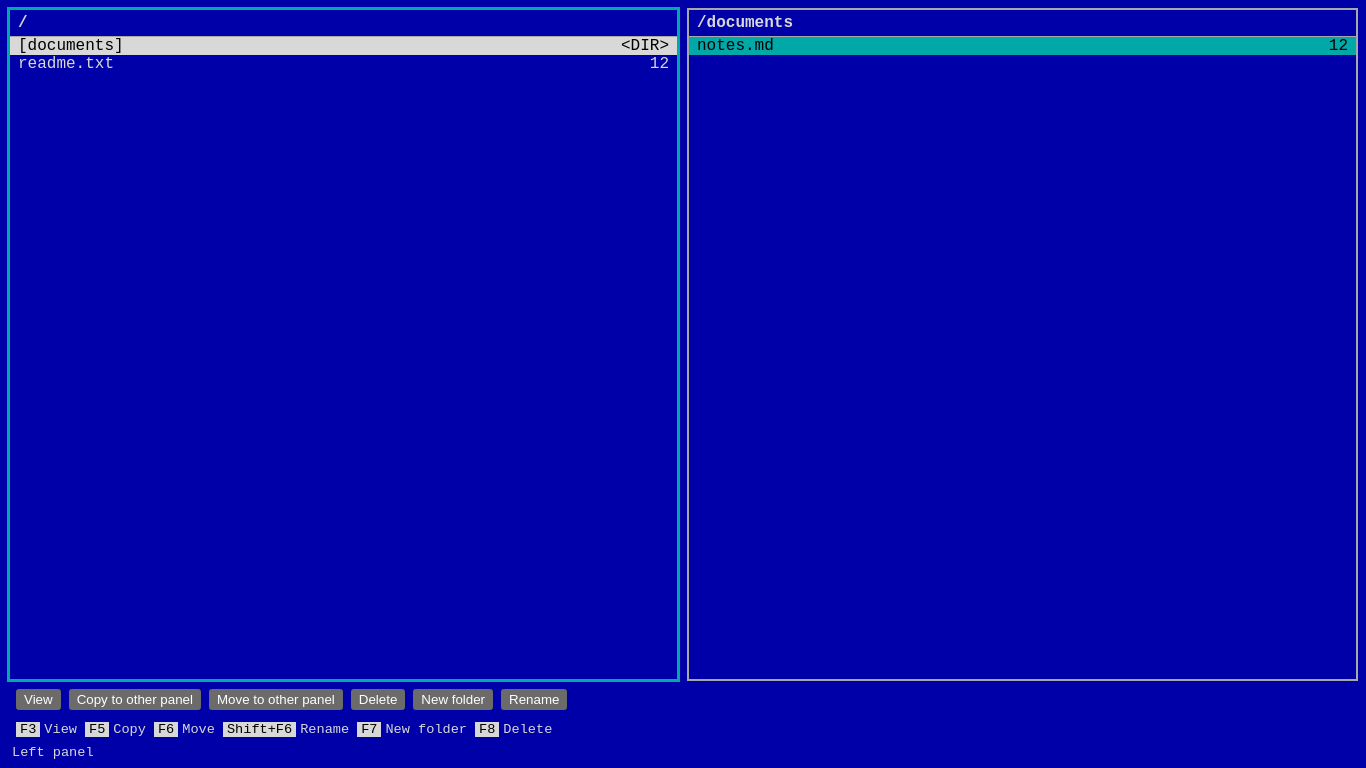
Test: §REQ:TWO-PNL-NVGT-OOX-070 creating a new folder from the active panel › §REQ:TWO-PNL-NVGT-OOX-070 the new folder appears in the active panel
The width and height of the screenshot is (1366, 768).
Click the element named "left panel" at (344, 344), box [8,8,679,681]
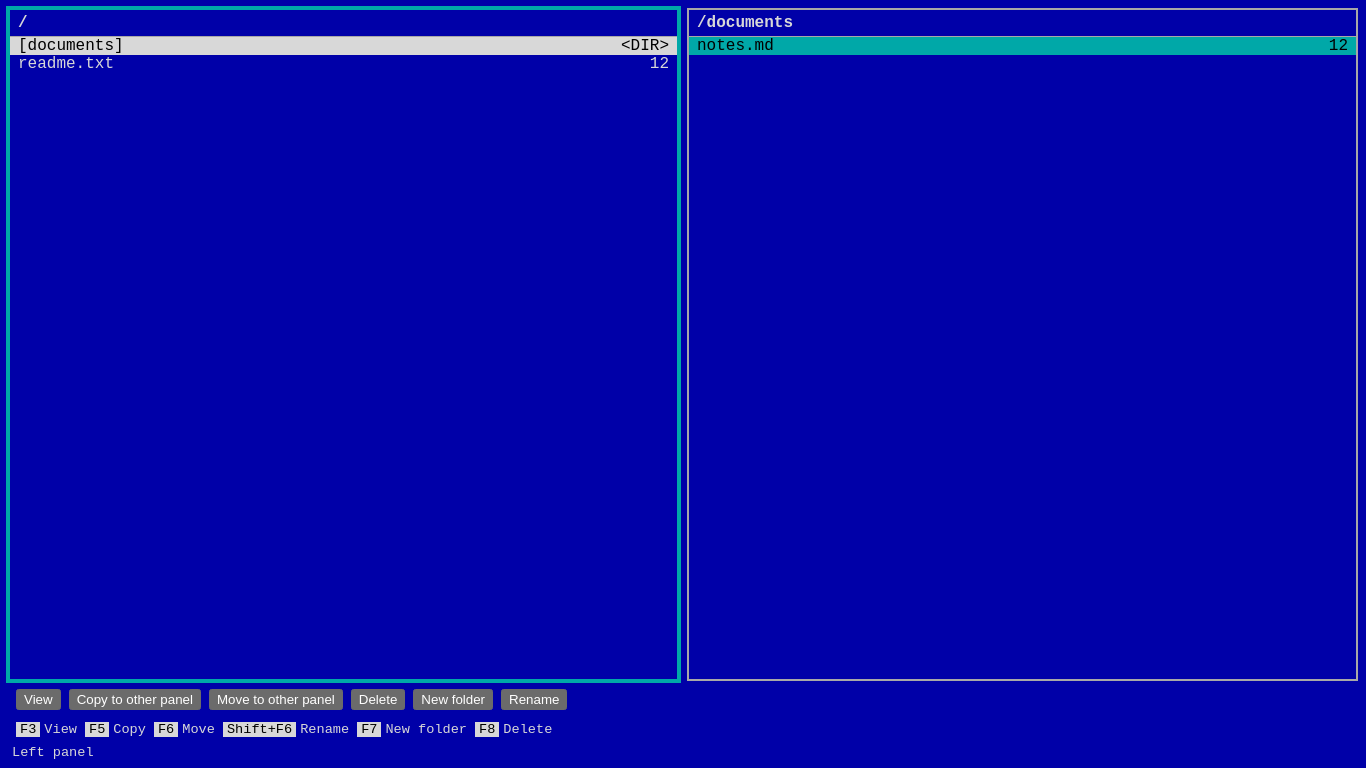
Click the button "New folder" at (453, 700), box [413,689,493,710]
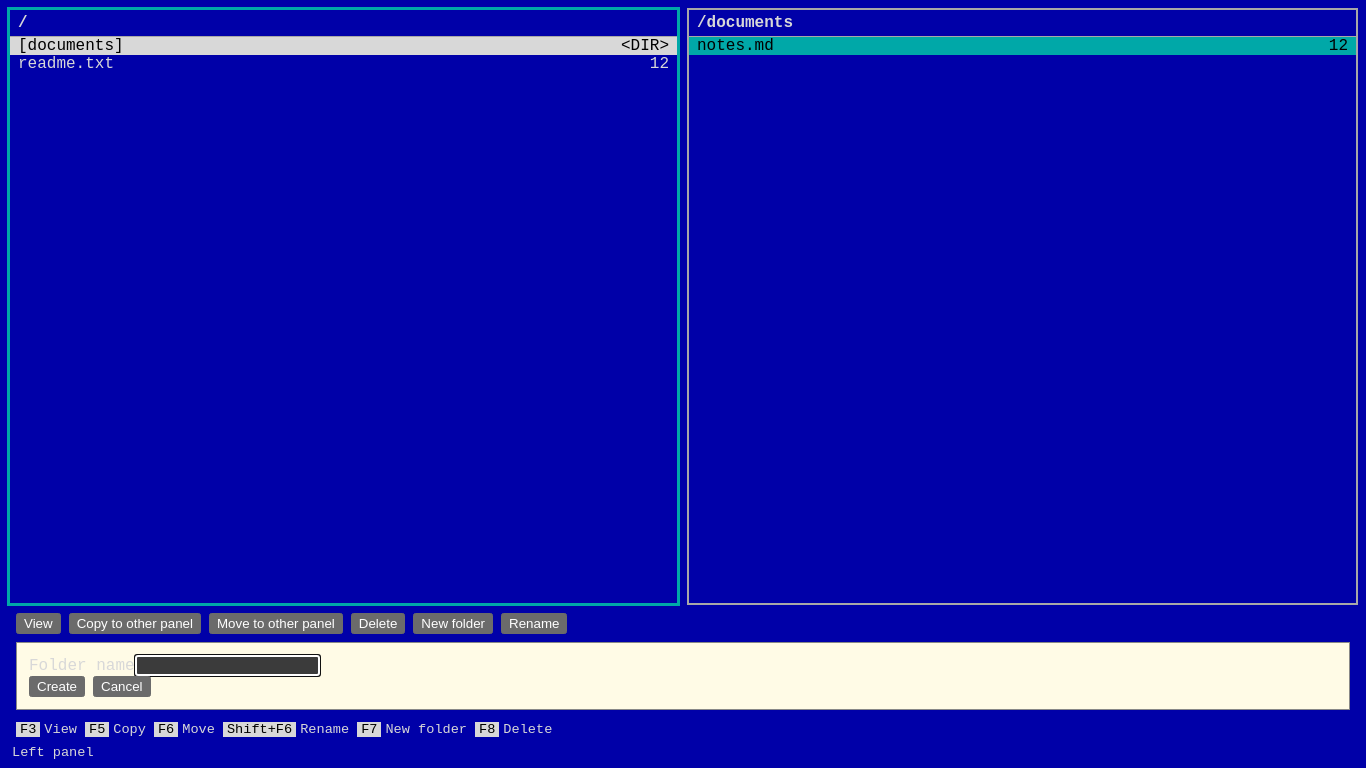
Type "archive" into the field labelled "Folder name" at (227, 666), box [135,655,320,676]
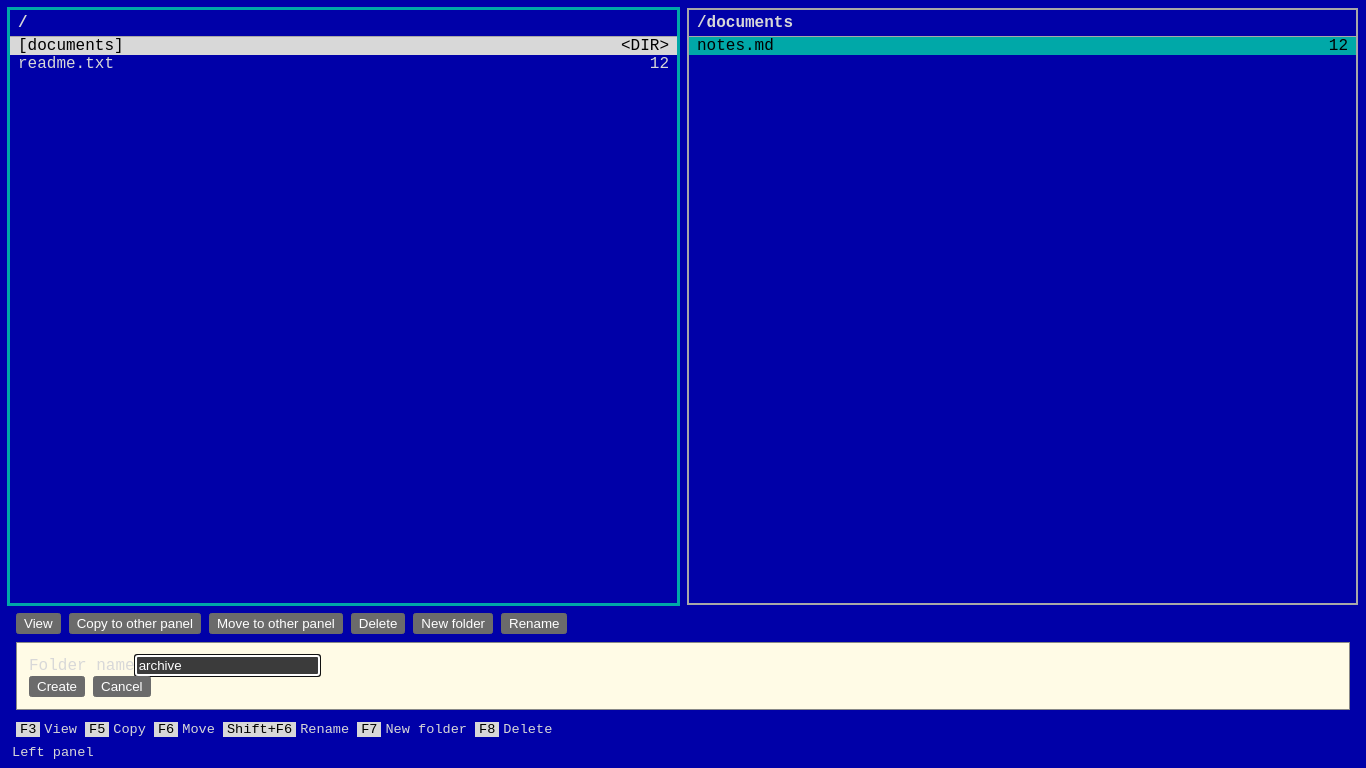
Click the button "Create" at (57, 686), box [29,676,85,697]
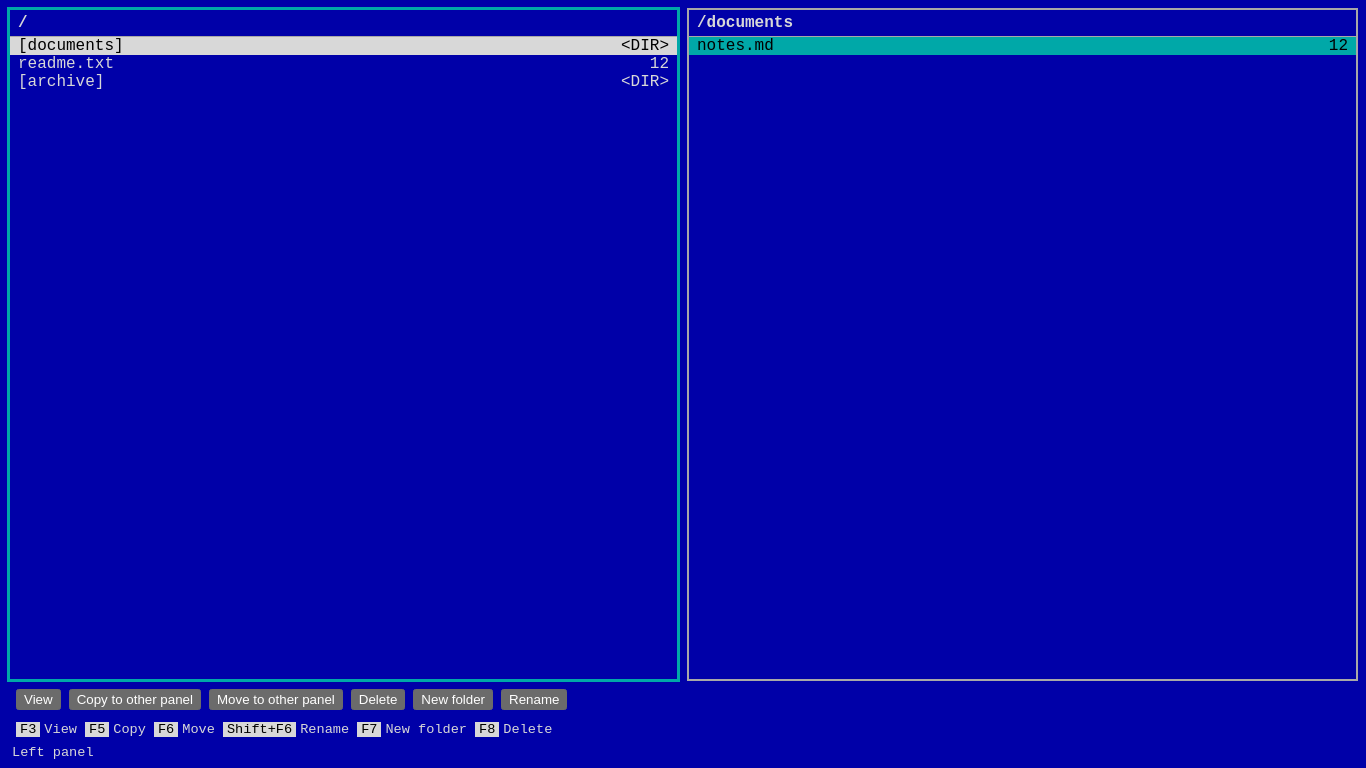
Check: the option "[archive] <DIR>" is shown, box [10,73,677,91]
